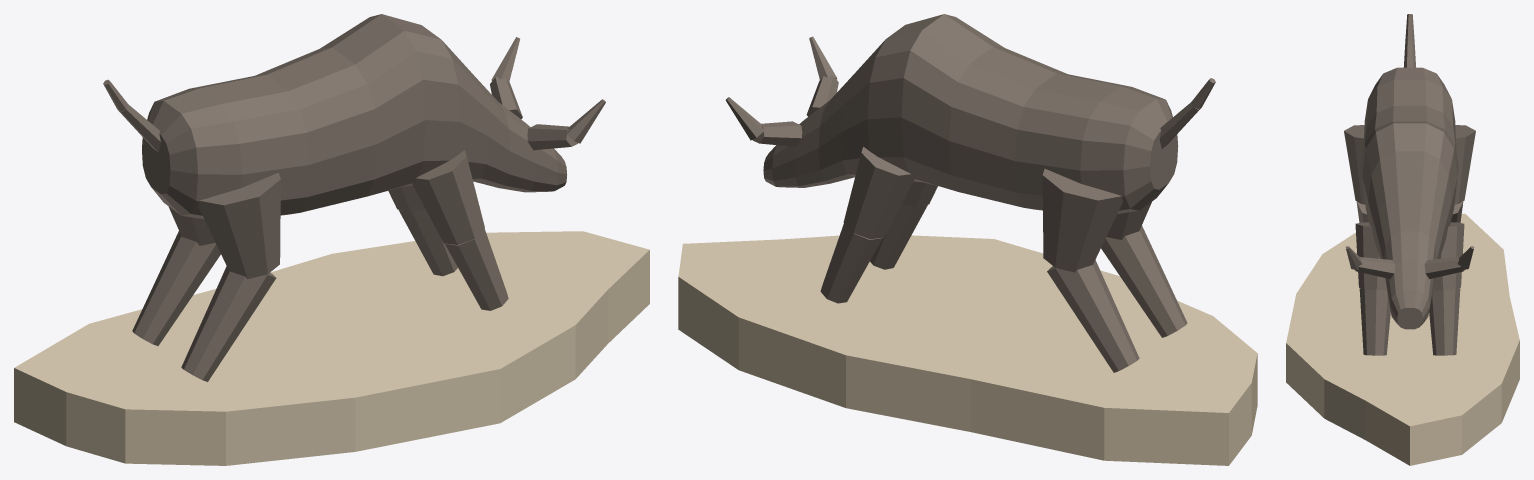
The model's file is spielberg_bull.glb.
3 views of the same model, side by side, from view 1: azimuth 30°, elevation 25°; view 2: azimuth 150°, elevation 25°; view 3: azimuth 270°, elevation 25° (orthographic). The views are drawn at different scales.
Visible parts, largest first — view 1: plinth, bull; view 2: plinth, bull; view 3: plinth, bull.
Part boxes in pixels (<box>): plinth: <box>14,231,649,465</box>; bull: <box>103,14,605,381</box>; plinth: <box>678,235,1257,465</box>; bull: <box>725,14,1215,372</box>; plinth: <box>1286,213,1519,465</box>; bull: <box>1344,14,1475,355</box>.
Bounding box in the file's own units: 18.44 × 10.49 × 8.56.
